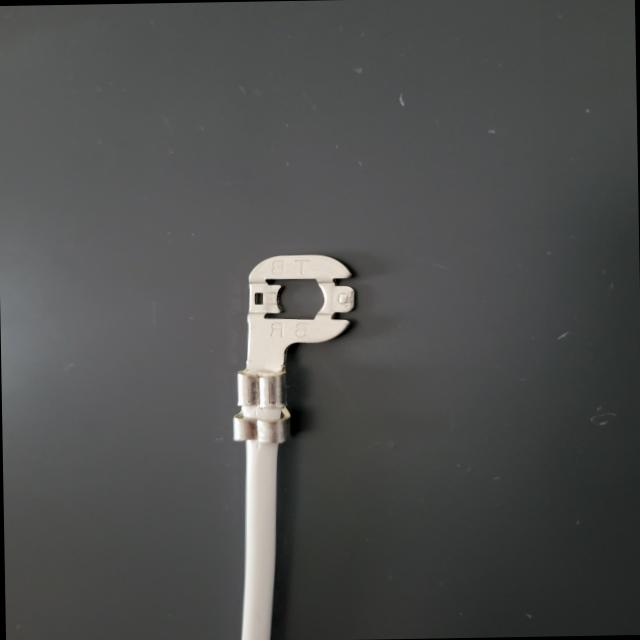defect: (177, 359, 316, 457)
